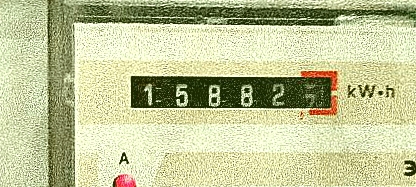1: (142, 78, 156, 107)
2: (269, 81, 287, 107)
5: (173, 81, 191, 111)
7: (302, 90, 315, 108)
8: (205, 81, 222, 109), (238, 81, 255, 109)
screen: (118, 59, 345, 123)
